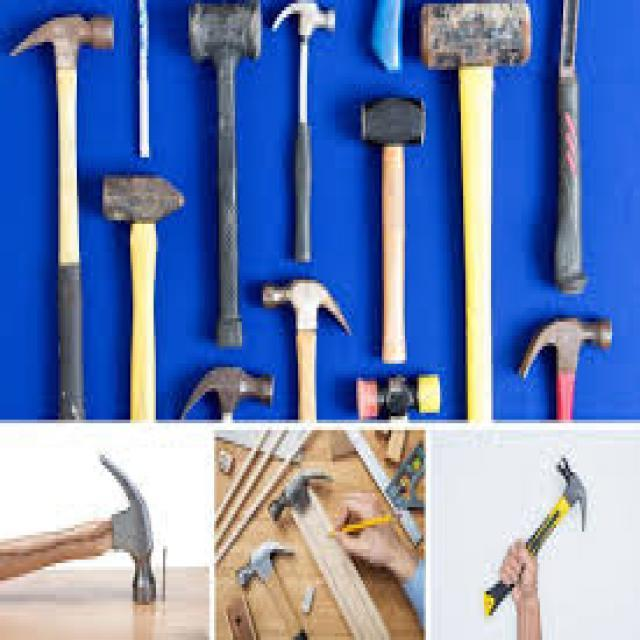hammer: (416, 4, 534, 438), (8, 7, 120, 427), (180, 0, 271, 353), (0, 446, 161, 618), (94, 170, 190, 428), (360, 85, 430, 384), (266, 0, 338, 273), (474, 453, 590, 614), (260, 258, 354, 426), (514, 304, 624, 427), (230, 538, 318, 640), (174, 354, 280, 436)
